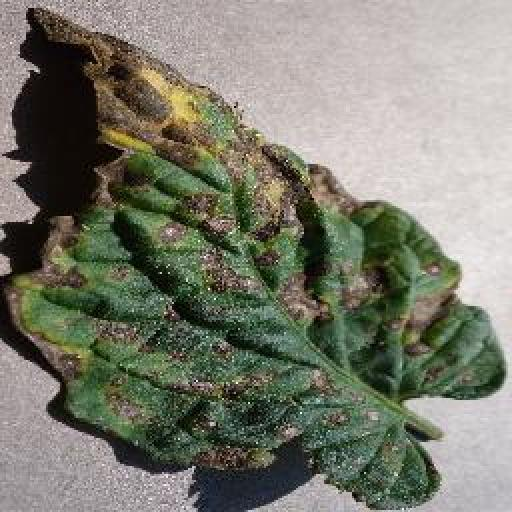Early Blight: (8, 6, 508, 512)
